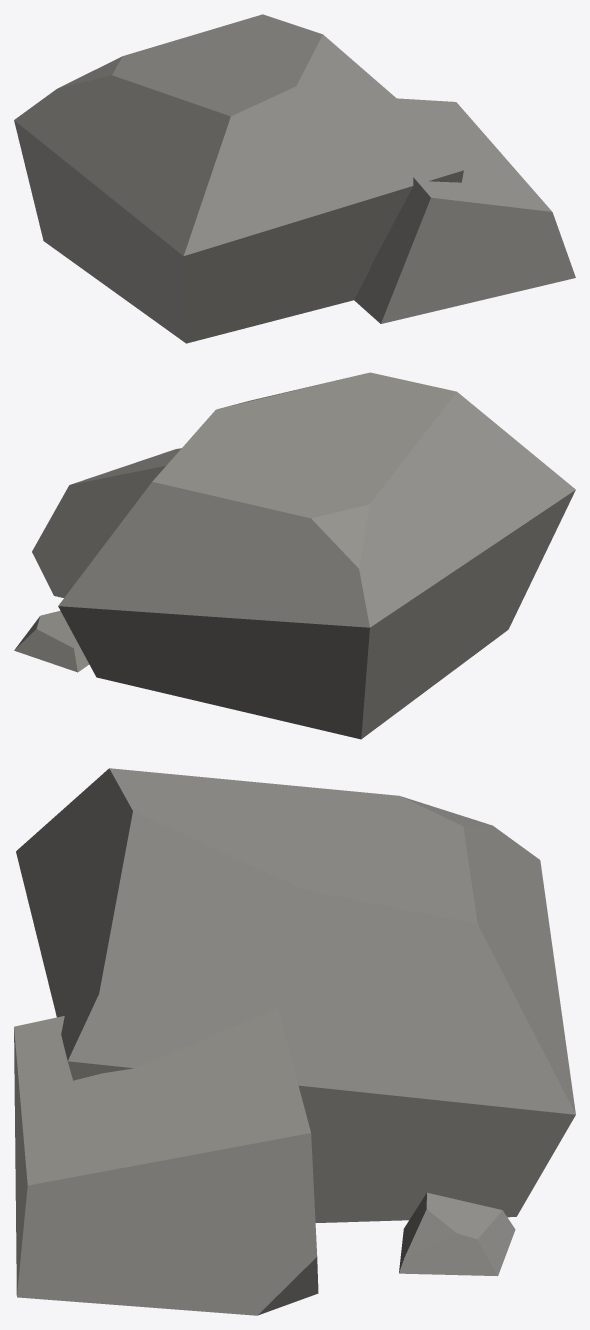
Rendered from medium_rock.glb.
3 views of the same model, one above another, from view 1: azimuth 30°, elevation 25°; view 2: azimuth 150°, elevation 25°; view 3: azimuth 270°, elevation 25° (orthographic). The views are drawn at different scales.
Visible parts, largest first — view 1: medium_rock; view 2: medium_rock; view 3: medium_rock.
Part boxes in pixels (bbox=[...]): medium_rock: bbox=[14, 14, 575, 343]; medium_rock: bbox=[14, 372, 575, 739]; medium_rock: bbox=[14, 768, 575, 1315].
Size of the model in its own units: 1.3 by 0.656 by 1.05.
1 material, 1 textured.
